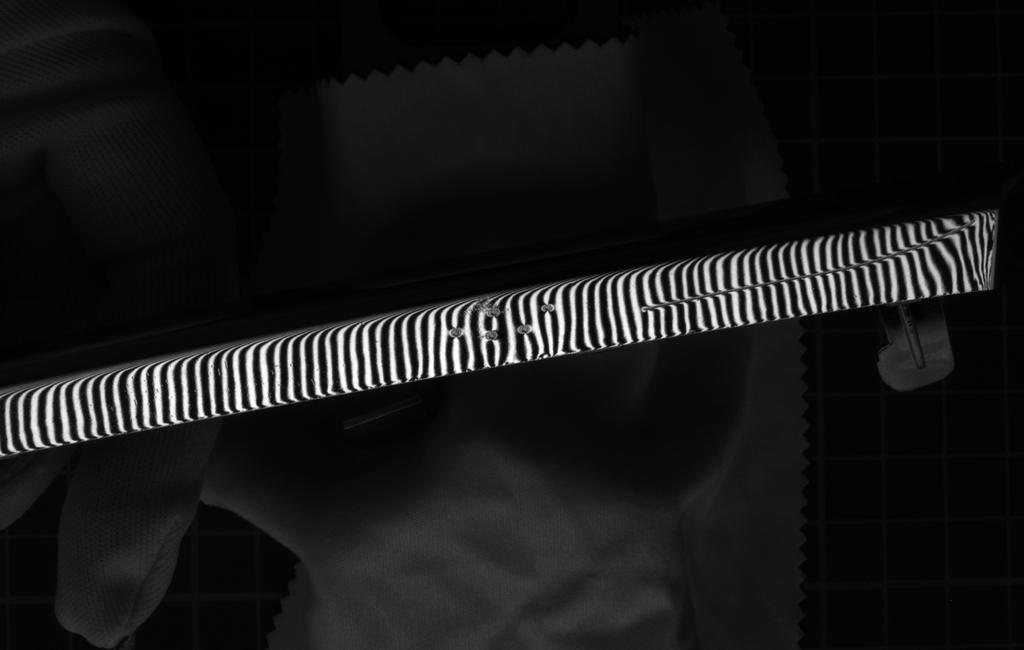Pierced: (443, 321, 469, 344), (531, 299, 561, 318), (512, 320, 538, 340), (479, 324, 502, 346), (483, 305, 506, 319)
Pitting: (466, 297, 495, 314)
Scratch: (634, 215, 980, 318)
